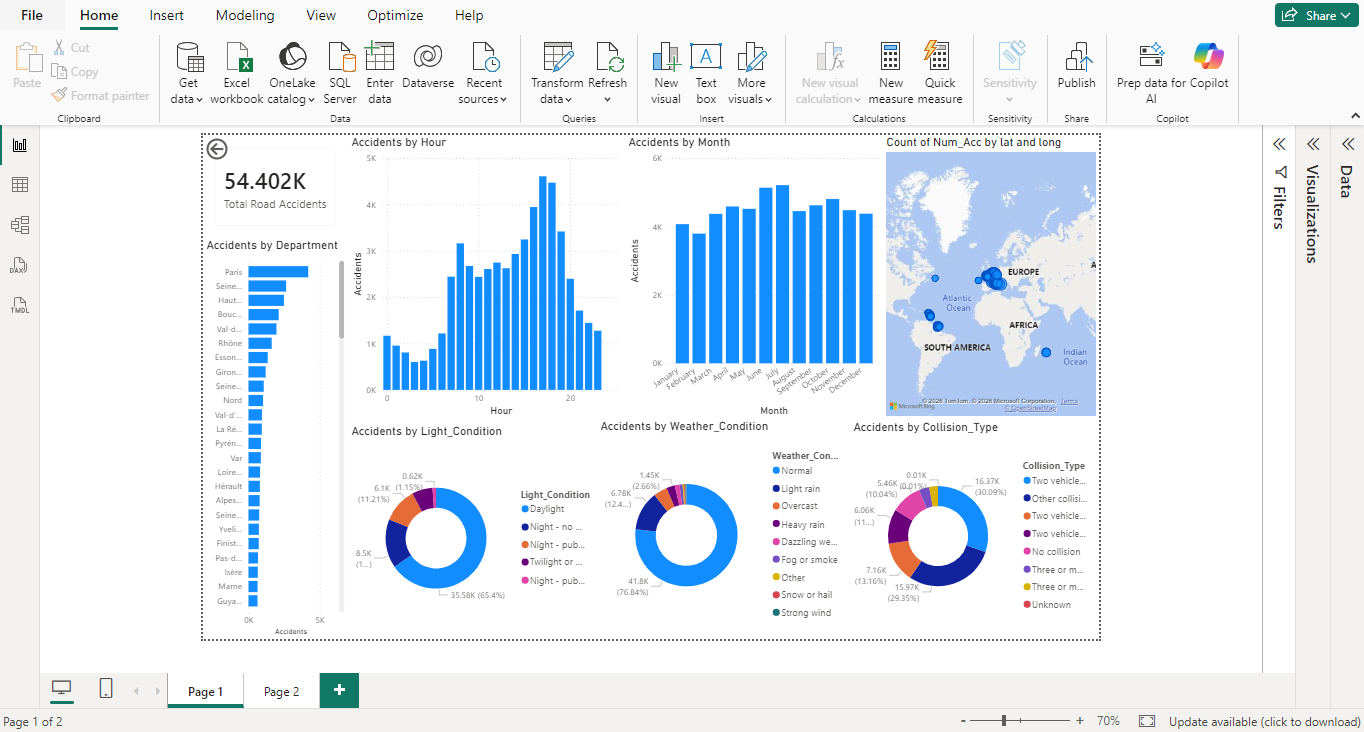

The page's visual inventory and layout, read from the dashboard file:
{"tool":"powerbi","page":{"name":"Page 1","canvas":[1280,720],"ordinal":0},"visuals":[{"type":"cardVisual","fields":{"Data":["Count(caracteristiques_2024_clean.Num_Acc)"]},"box":[0,0,206.5,147.3],"z":0},{"type":"clusteredColumnChart","fields":{"Category":["caracteristiques_2024_clean.Month_Name"],"Y":["CountNonNull(caracteristiques_2024_clean.Month_Name)"]},"box":[602.9,0,368.6,407.1],"z":1000},{"type":"actionButton","box":[0,0,100,40],"z":2000},{"type":"clusteredColumnChart","fields":{"Category":["caracteristiques_2024_clean.Hour"],"Y":["CountNonNull(caracteristiques_2024_clean.Num_Acc)"]},"box":[207.1,0,395.7,407.1],"z":3000},{"type":"clusteredBarChart","fields":{"Category":["caracteristiques_2024_clean.Department"],"Y":["CountNonNull(caracteristiques_2024_clean.Num_Acc)"]},"box":[0,147.1,207.1,572.9],"z":4000},{"type":"map","fields":{"X":["caracteristiques_2024_clean.long"],"Y":["caracteristiques_2024_clean.lat"],"Size":["CountNonNull(caracteristiques_2024_clean.Num_Acc)"]},"box":[971.4,0,308.6,407.1],"z":5000},{"type":"donutChart","fields":{"Category":["caracteristiques_2024_clean.Weather_Condition"],"Y":["CountNonNull(caracteristiques_2024_clean.Num_Acc)"]},"box":[562.9,405.7,361.4,312.9],"z":6000},{"type":"donutChart","fields":{"Category":["caracteristiques_2024_clean.Light_Condition"],"Y":["CountNonNull(caracteristiques_2024_clean.Num_Acc)"]},"box":[207.1,412.9,355.7,307.1],"z":7000},{"type":"donutChart","fields":{"Category":["caracteristiques_2024_clean.Collision_Type"],"Y":["CountNonNull(caracteristiques_2024_clean.Num_Acc)"]},"box":[924.3,407.1,355.7,312.9],"z":8000}]}

Visuals, with their boxes on the page's 1280x720 design canvas (x1, y1, x2, y2). These are canvas units, not pixel positions in the 1364x732 screenshot, which may show the page scaled, cropped or inside an application window:
cardVisual - Count(caracteristiques_2024_clean.Num_Acc): [0, 0, 206, 147]
clusteredColumnChart - caracteristiques_2024_clean.Month_Name x CountNonNull(caracteristiques_2024_clean.Month_Name): [603, 0, 972, 407]
actionButton: [0, 0, 100, 40]
clusteredColumnChart - caracteristiques_2024_clean.Hour x CountNonNull(caracteristiques_2024_clean.Num_Acc): [207, 0, 603, 407]
clusteredBarChart - caracteristiques_2024_clean.Department x CountNonNull(caracteristiques_2024_clean.Num_Acc): [0, 147, 207, 720]
map - caracteristiques_2024_clean.long x caracteristiques_2024_clean.lat: [971, 0, 1280, 407]
donutChart - caracteristiques_2024_clean.Weather_Condition x CountNonNull(caracteristiques_2024_clean.Num_Acc): [563, 406, 924, 719]
donutChart - caracteristiques_2024_clean.Light_Condition x CountNonNull(caracteristiques_2024_clean.Num_Acc): [207, 413, 563, 720]
donutChart - caracteristiques_2024_clean.Collision_Type x CountNonNull(caracteristiques_2024_clean.Num_Acc): [924, 407, 1280, 720]
